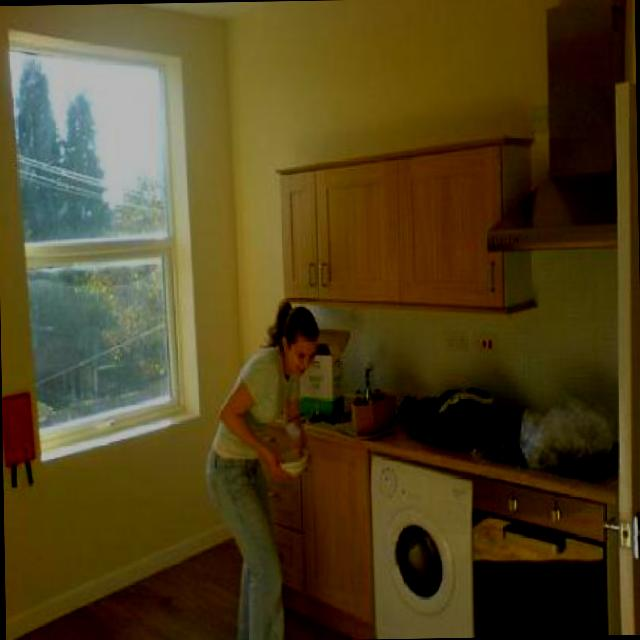Person: (199, 292, 328, 636)
